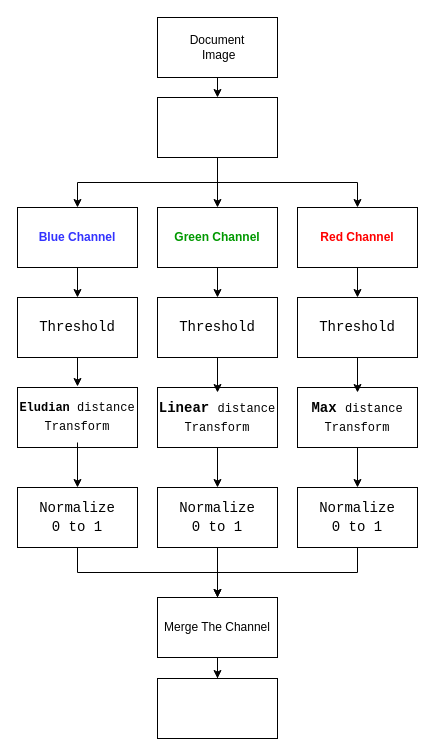
Image size: 435x756. Some labels were removed from this diagram. The box of each missing label's shape, as (x1, y1, x2, y2) in pixels:
Convert to uint16 & save: (156, 678, 278, 738)
Split Color Channels: (156, 96, 278, 158)
